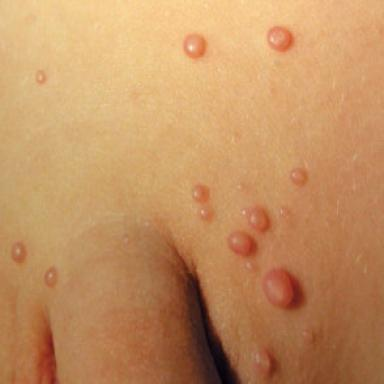Molluscum-Contagiosum: (263, 269, 293, 306), (268, 27, 293, 51), (228, 231, 253, 255), (184, 34, 205, 58), (249, 208, 269, 231), (253, 349, 271, 374), (192, 184, 209, 202), (11, 242, 25, 262), (291, 168, 307, 185), (44, 267, 58, 286), (199, 207, 214, 220), (302, 331, 313, 345), (36, 71, 46, 83), (245, 262, 257, 271), (280, 207, 290, 217)
